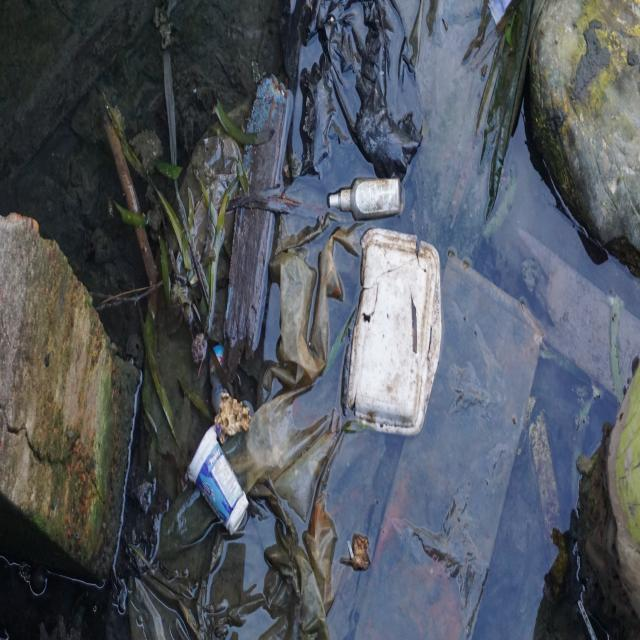Botol Plastik: (325, 174, 410, 224)
Bungkus Makanan: (347, 233, 443, 439)
Bungkus Minuman: (182, 427, 252, 541)
Kantong Plastik: (291, 2, 423, 181), (246, 449, 349, 640), (269, 229, 349, 375)
